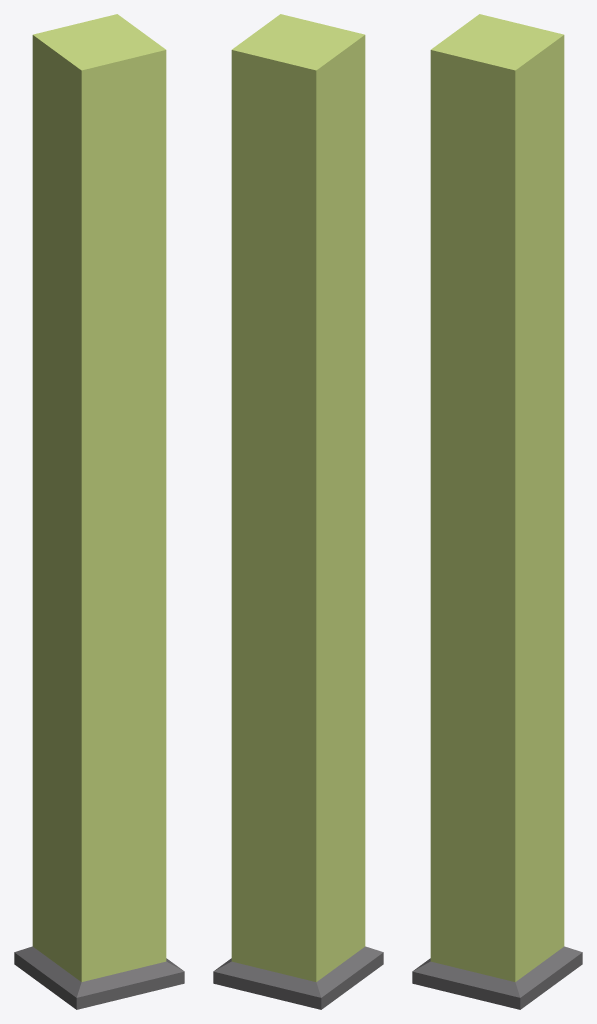
Rendered from RayStageT2.fbx.
3 renders of one model, left to right at view 1: azimuth 30°, elevation 25°; view 2: azimuth 150°, elevation 25°; view 3: azimuth 330°, elevation 25°, orthographic.
Visible parts, largest first — view 1: 立方体.001; view 2: 立方体.001; view 3: 立方体.001.
Part boxes in pixels (x1,y1,x2,y2): 立方体.001: [14, 14, 184, 1009]; 立方体.001: [213, 14, 383, 1009]; 立方体.001: [412, 14, 582, 1009].
Size of the model in its own units: 1.28 by 10.5 by 1.28.
